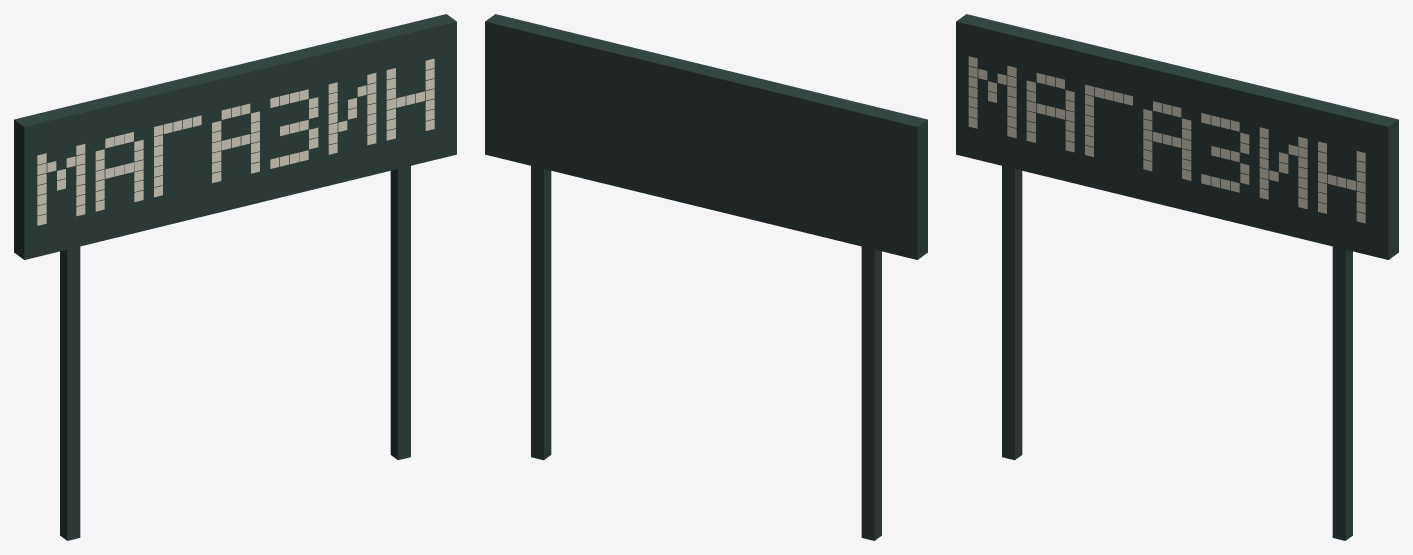
Rendered from StoreSign.obj.
The picture shows the model from 3 angles, left to right: view 1: azimuth 30°, elevation 25°; view 2: azimuth 150°, elevation 25°; view 3: azimuth 330°, elevation 25°; orthographic projection.
Parts seen in each view (by area): view 1: StoreSign; view 2: StoreSign; view 3: StoreSign.
Part boxes in pixels (x1,y1,x2,y2): StoreSign: [14, 14, 456, 540]; StoreSign: [485, 14, 927, 540]; StoreSign: [956, 14, 1398, 540].
Bounding box in the file's own units: 3.4 × 3.2 × 0.144.
